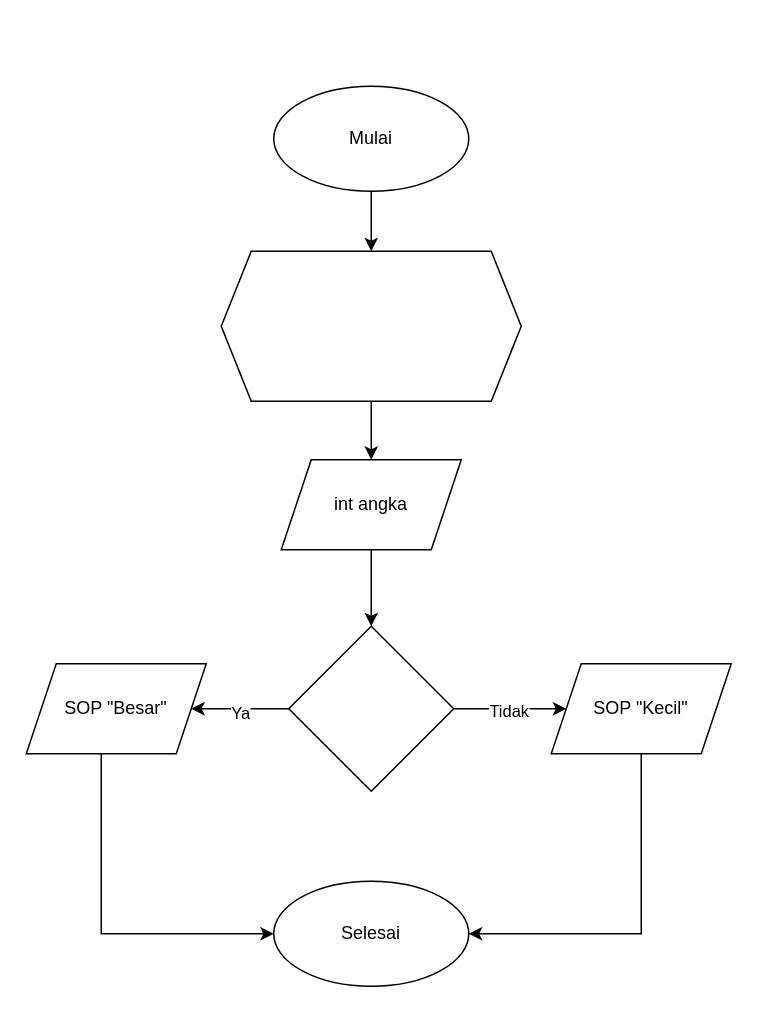
The diagram is 758 pixels wide and 1013 high, and some of its shapes have lost their labels. The shapes that lost their labels are listed below. From the top down, each one's box as (x1, y1, x2, y2) in pixels, then its label:
(220, 250, 521, 401): I = int angka P = int angka O = Lib = Scanner
(287, 625, 454, 791): angka > 10
